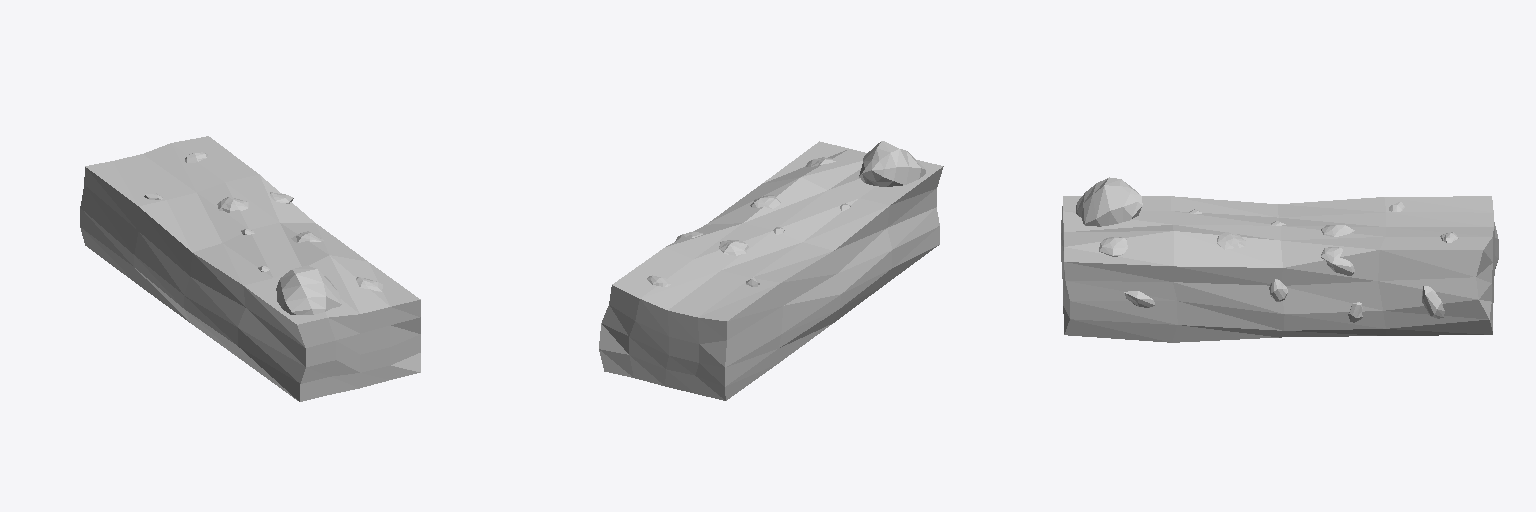
File: trincheira.obj
The picture shows the model from 3 angles: view 1: azimuth 30°, elevation 25°; view 2: azimuth 150°, elevation 25°; view 3: azimuth 270°, elevation 25°; orthographic projection.
Parts seen in each view (by area): view 1: Cube, Sphere.010_Sphere.011; view 2: Cube, Sphere.010_Sphere.011; view 3: Cube, Sphere.010_Sphere.011, Sphere.
Boxes of the visible parts, <box> form: Cube: <box>80,136,420,401</box>; Sphere.010_Sphere.011: <box>276,265,341,314</box>; Cube: <box>599,141,943,400</box>; Sphere.010_Sphere.011: <box>859,141,925,186</box>; Cube: <box>1061,196,1498,342</box>; Sphere.010_Sphere.011: <box>1076,177,1142,226</box>; Sphere: <box>1321,247,1354,275</box>.
Size of the model in its own units: 4.15 by 3.16 by 10.84.